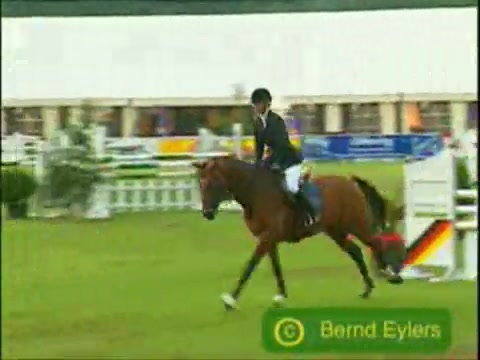horse: (194, 157, 389, 313)
